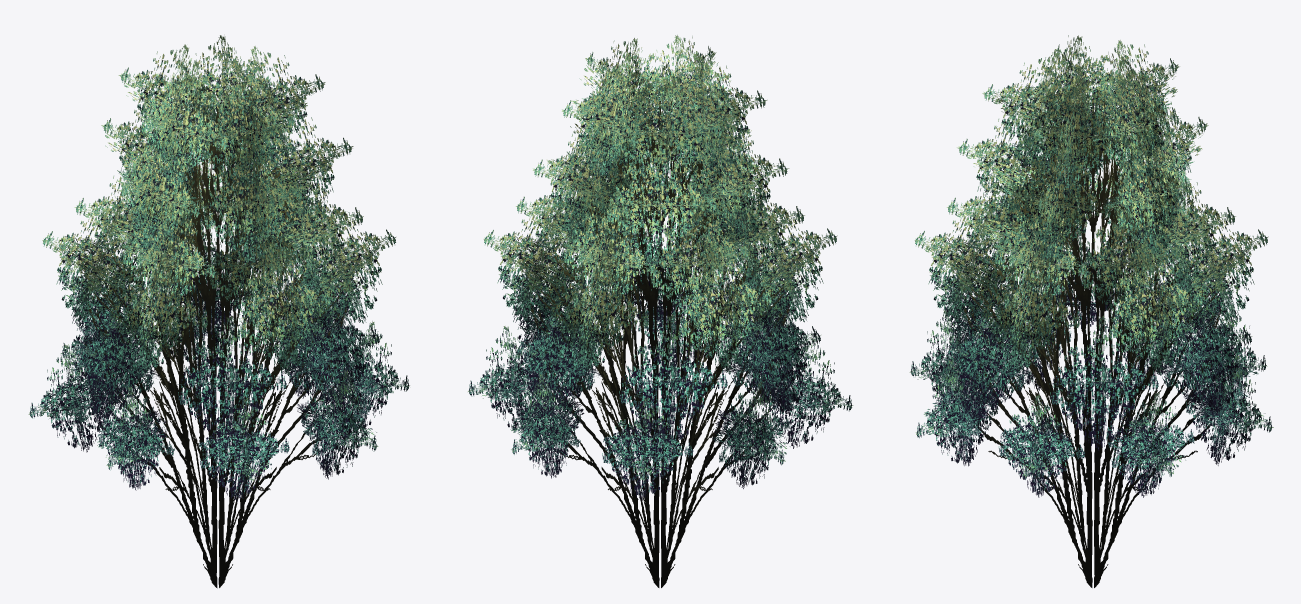
Rendered from schietwilg_2.fbx.
The picture shows the model from 3 angles, left to right: view 1: azimuth 30°, elevation 25°; view 2: azimuth 150°, elevation 25°; view 3: azimuth 270°, elevation 25°; orthographic projection.
Parts seen in each view (by area): view 1: schietwilg_2, tak; view 2: schietwilg_2, tak; view 3: schietwilg_2, tak.
Boxes of the visible parts, x1=… form: schietwilg_2: x1=28, y1=35, x2=409, y2=501; tak: x1=84, y1=100, x2=349, y2=588; schietwilg_2: x1=468, y1=35, x2=853, y2=500; tak: x1=526, y1=98, x2=793, y2=587; schietwilg_2: x1=909, y1=35, x2=1273, y2=497; tak: x1=959, y1=98, x2=1226, y2=587.
Bounding box in the file's own units: 786 × 1237 × 786.
